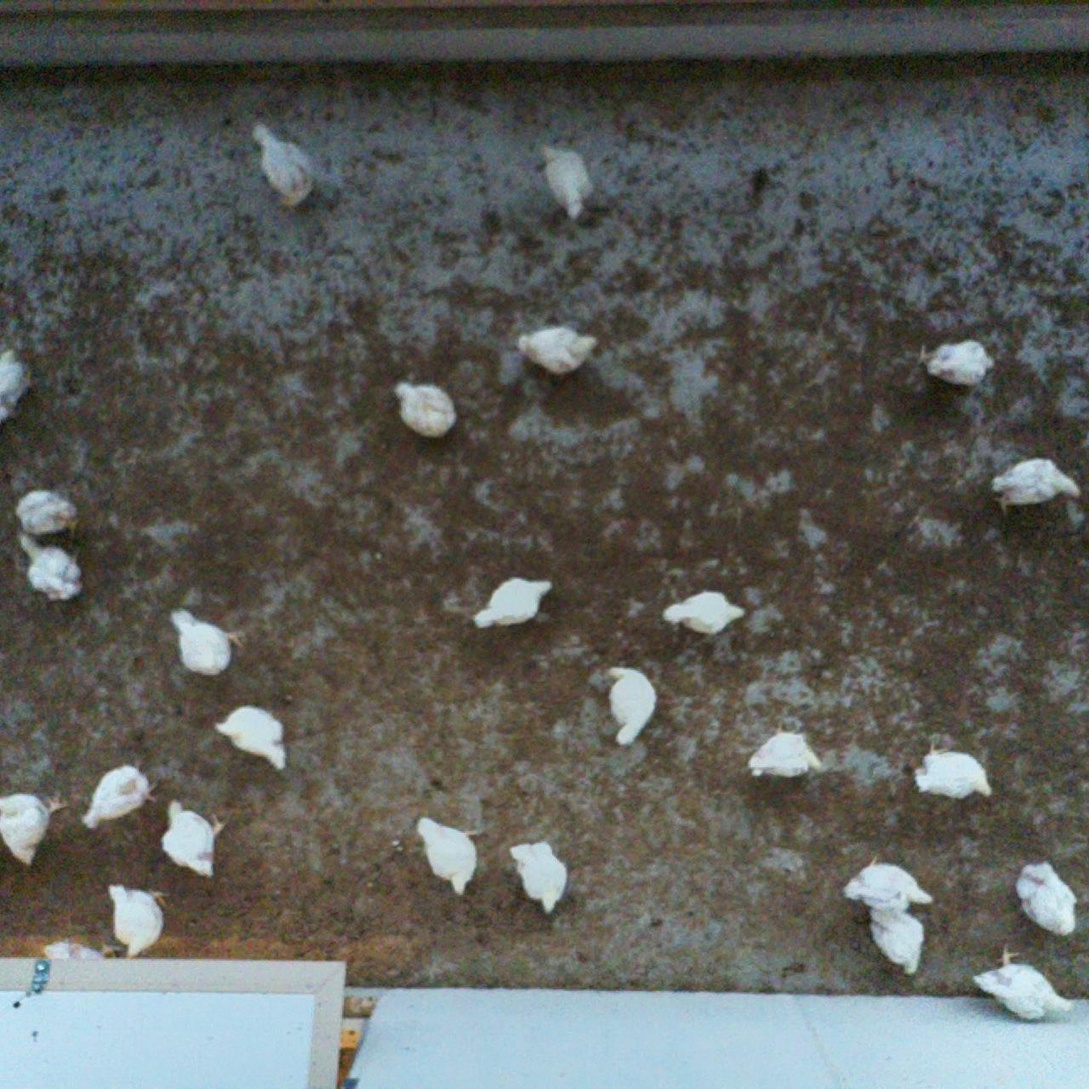chicken: (965, 943, 1072, 1024), (412, 810, 487, 896), (988, 453, 1088, 517), (1008, 851, 1079, 941), (153, 795, 228, 878), (0, 787, 70, 868), (213, 700, 289, 774), (912, 738, 996, 804), (165, 606, 243, 677), (9, 529, 85, 601), (80, 762, 158, 832), (254, 118, 314, 206), (600, 659, 659, 748), (537, 136, 594, 227), (843, 851, 933, 908), (861, 899, 926, 976), (472, 574, 554, 634), (742, 723, 825, 782), (507, 836, 571, 912), (108, 878, 168, 959), (388, 375, 458, 439), (914, 336, 998, 389), (514, 323, 597, 376), (41, 936, 103, 1003), (659, 591, 745, 636), (11, 489, 79, 538), (0, 342, 30, 433)
